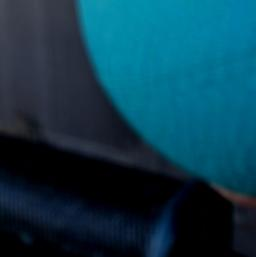algae: (70, 0, 256, 196)
